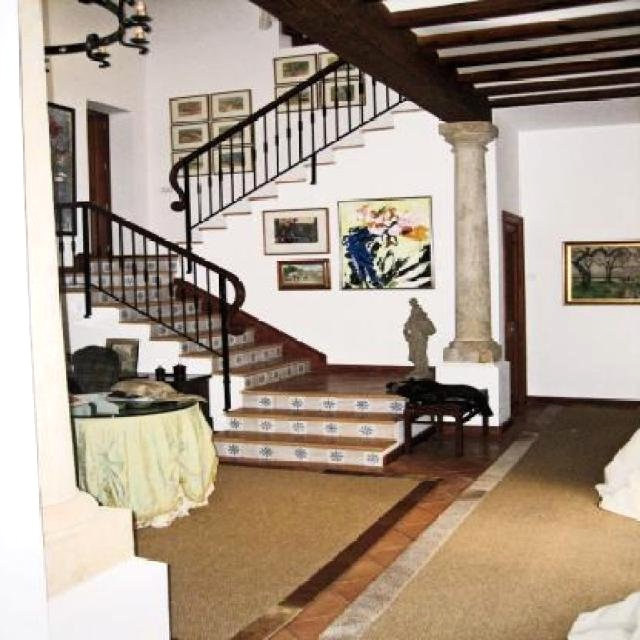stair: (46, 156, 417, 464)
